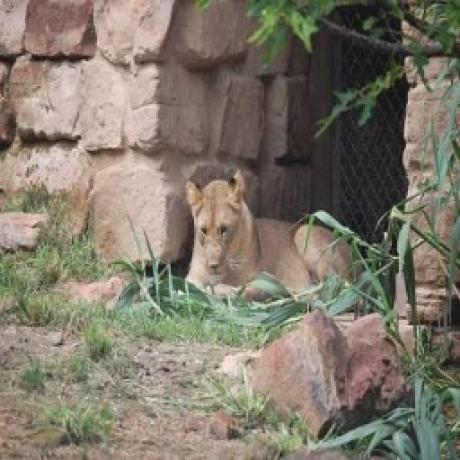Lion: (180, 170, 364, 297)
